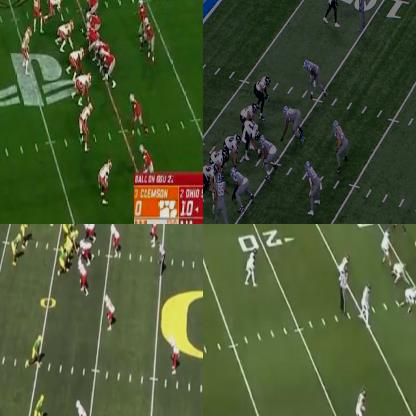CENTER: (242, 118, 262, 158), (82, 23, 98, 45), (66, 233, 78, 259)
DB: (97, 155, 111, 201), (79, 104, 89, 148), (244, 251, 255, 285), (353, 0, 367, 23), (356, 391, 368, 415), (171, 334, 179, 369), (149, 224, 158, 245), (75, 400, 87, 415)
LB: (304, 161, 322, 218), (333, 117, 349, 173), (214, 172, 230, 223), (304, 60, 322, 103), (21, 26, 32, 72), (33, 0, 45, 33), (106, 293, 116, 331), (380, 230, 391, 263), (341, 255, 350, 295), (110, 226, 120, 258), (362, 284, 370, 321)
QB: (139, 0, 148, 45), (23, 224, 32, 247)
SKILL: (130, 95, 147, 134), (144, 20, 156, 60), (326, 0, 343, 24), (203, 164, 219, 188), (31, 334, 42, 368), (142, 146, 153, 172), (11, 234, 21, 262), (34, 390, 44, 415)
